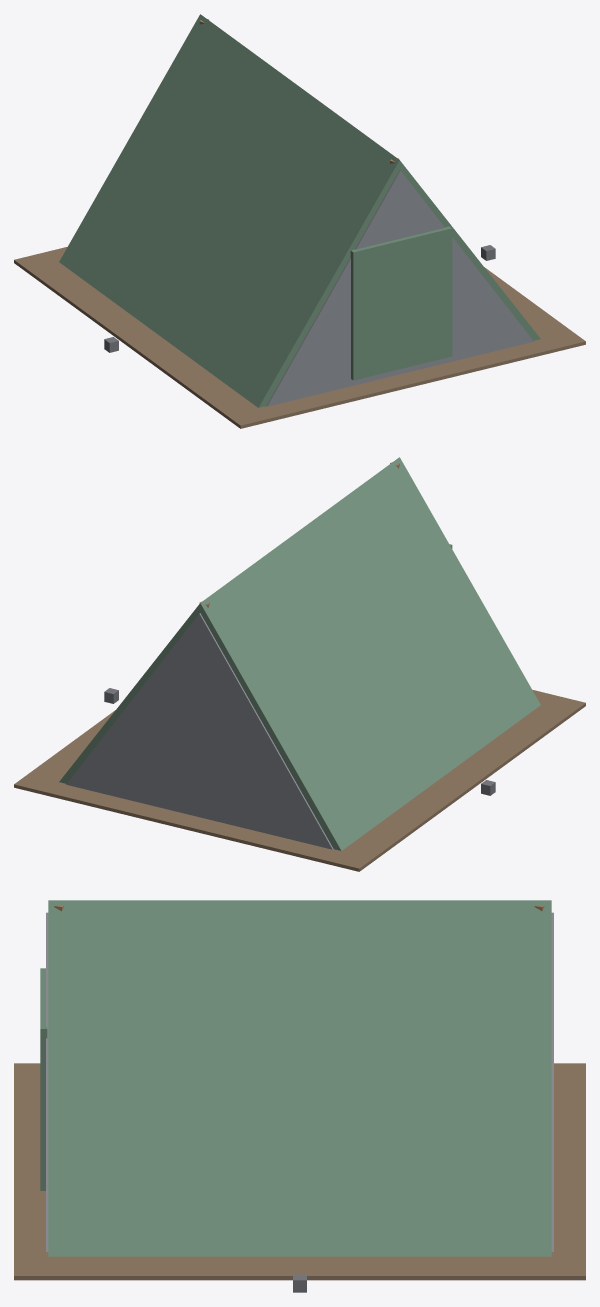
Rendered from Cadir_Yesil.glb.
The picture shows the model from 3 angles, top to bottom: view 1: azimuth 30°, elevation 25°; view 2: azimuth 150°, elevation 25°; view 3: azimuth 270°, elevation 25°; orthographic projection. The views are drawn at different scales.
Visible parts, largest first — view 1: Cadir_Yesil; view 2: Cadir_Yesil; view 3: Cadir_Yesil.
Boxes of the visible parts, box(x1,y1,x2,y2) form: Cadir_Yesil: box(14, 14, 585, 428); Cadir_Yesil: box(14, 457, 585, 871); Cadir_Yesil: box(14, 900, 585, 1292).
Size of the model in its own units: 2.46 by 1.32 by 2.5.
